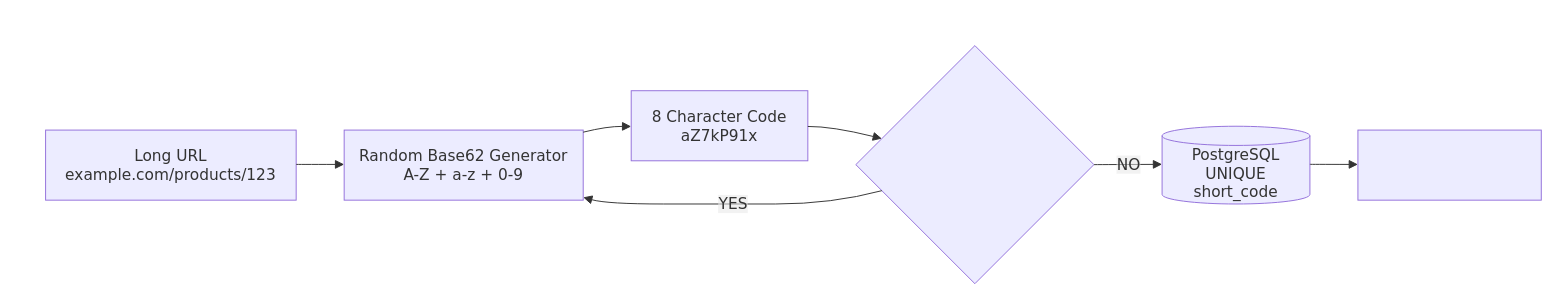
Some shapes in this 1558 by 300 pixel diagram are drawn without their labels. Here are the shapes that lost their labels. From the top down, the centre of each, then its label:
At point 974,164: "Code Already Exists?".
At point 1449,164: "Short URL short.ly/aZ7kP91x".
